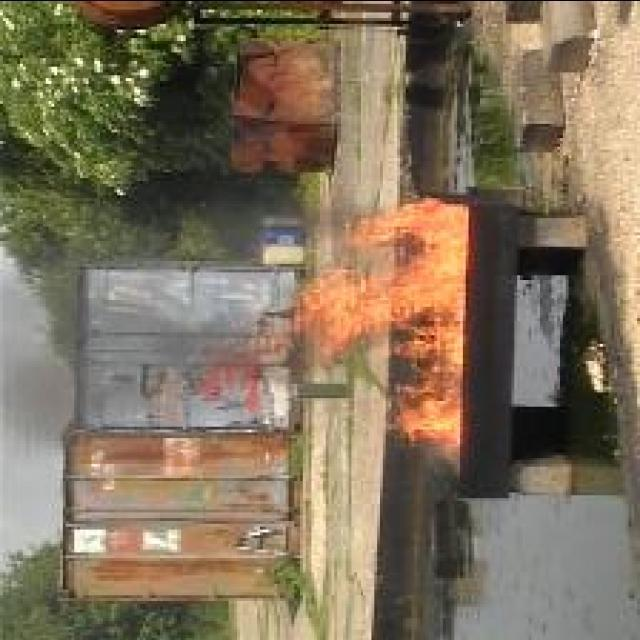Fire: (296, 196, 470, 464)
